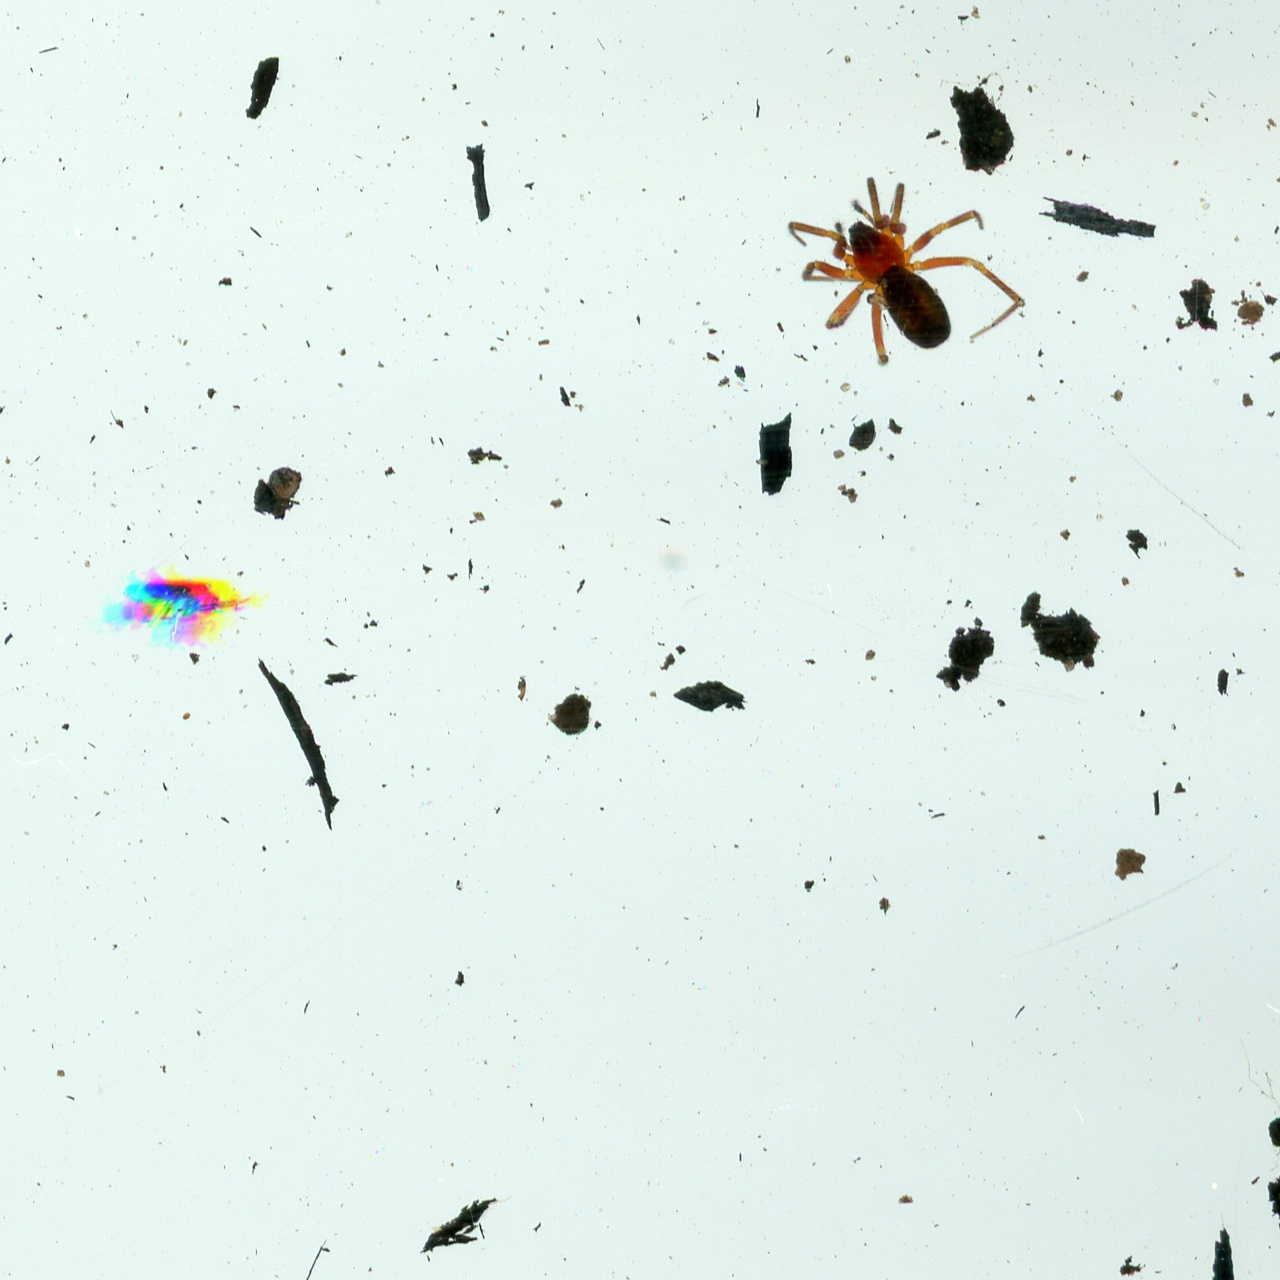arthropod: (783, 171, 1029, 374), (95, 565, 253, 653)
